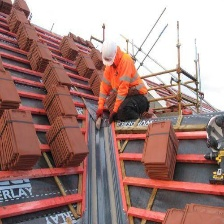helmet: (99, 39, 122, 70)
person: (94, 36, 156, 131)
vest: (96, 66, 155, 99)
